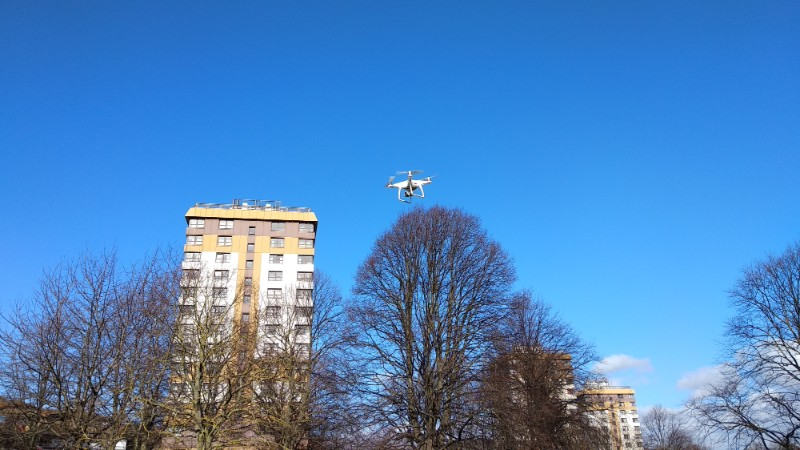drone: (383, 167, 437, 204)
